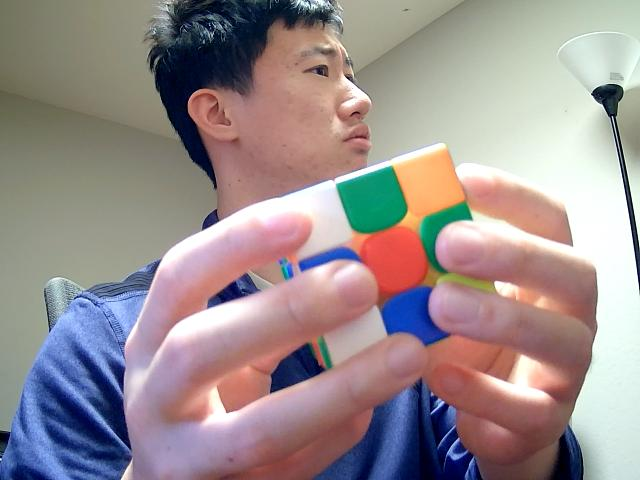Rubiks-Cube: (258, 139, 514, 378)
